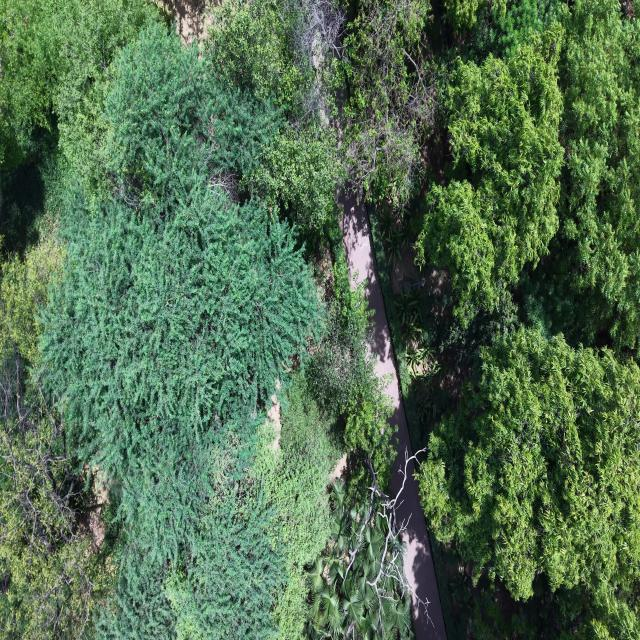DRY_AREA: (339, 189, 411, 495), (157, 0, 213, 43)
PATHWAYS: (339, 186, 412, 495), (340, 189, 411, 495)
VEGETATION_TREE: (0, 0, 639, 639), (0, 2, 392, 638), (41, 26, 322, 637), (372, 0, 639, 638), (420, 329, 639, 637), (416, 24, 562, 327), (0, 238, 109, 639), (0, 0, 158, 255), (532, 0, 639, 351), (103, 25, 283, 218), (205, 0, 344, 237), (0, 352, 111, 639), (0, 0, 157, 183), (255, 373, 341, 638), (309, 261, 394, 486), (343, 0, 434, 205), (307, 478, 412, 639), (205, 0, 314, 113), (252, 126, 343, 236), (0, 2, 56, 171), (0, 236, 64, 365), (443, 0, 507, 32)
